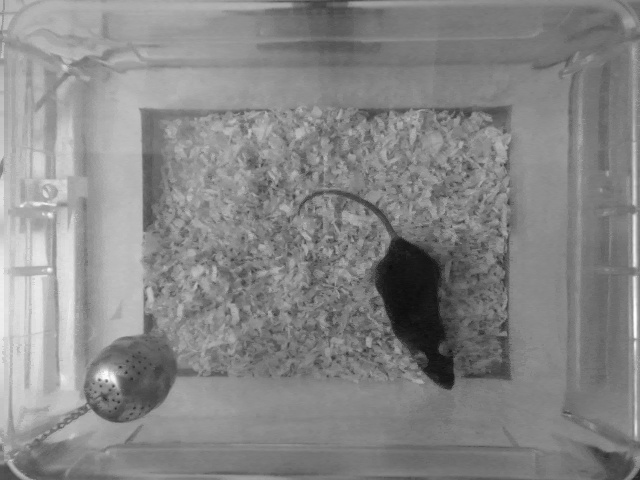mice: (293, 187, 459, 392)
